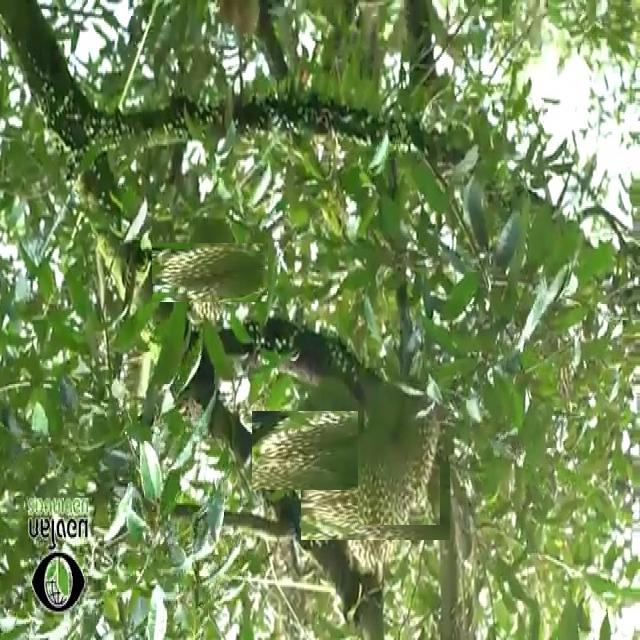durian: (270, 393, 385, 508), (319, 444, 433, 558), (358, 376, 440, 525), (166, 229, 255, 316)
